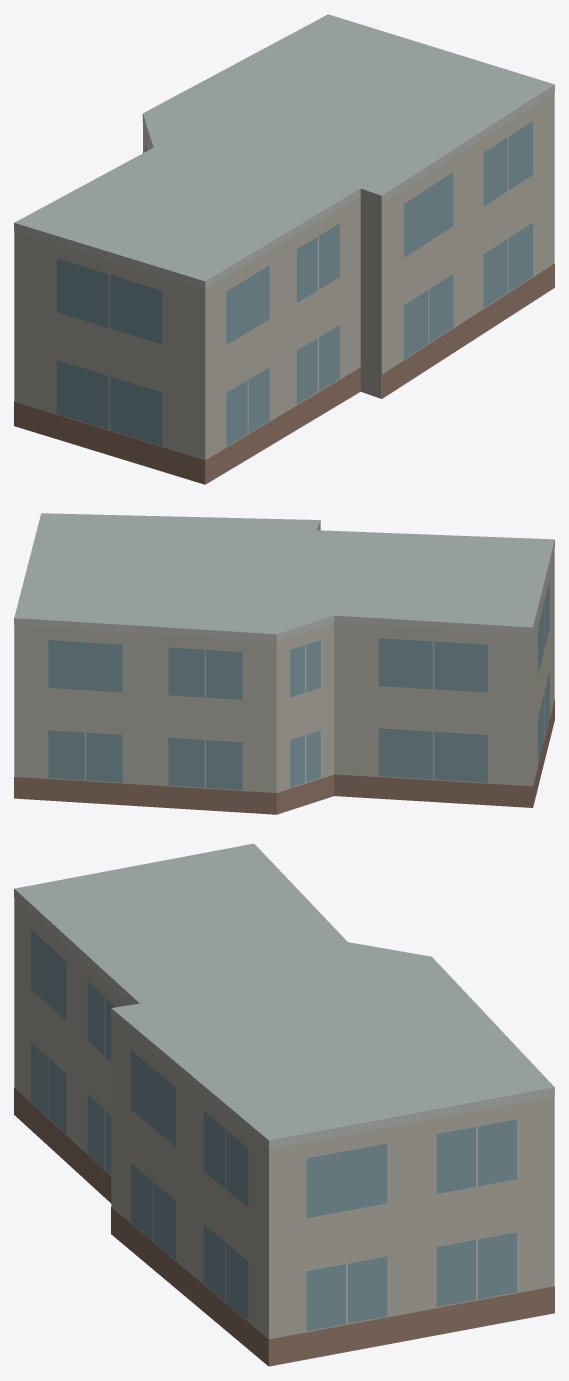
The model's file is survey-upis-32850046.glb.
The picture shows the model from 3 angles, top to bottom: view 1: azimuth 30°, elevation 25°; view 2: azimuth 150°, elevation 25°; view 3: azimuth 270°, elevation 25°; orthographic projection. The views are drawn at different scales.
Parts seen in each view (by area): view 1: survey-upis-32850046.tmp; view 2: survey-upis-32850046.tmp; view 3: survey-upis-32850046.tmp.
Part boxes in pixels (x1=…): survey-upis-32850046.tmp: x1=14, y1=14, x2=554, y2=484; survey-upis-32850046.tmp: x1=14, y1=513, x2=554, y2=814; survey-upis-32850046.tmp: x1=14, y1=843, x2=554, y2=1366.
Size of the model in its own units: 17.2 by 6.1 by 13.23.
